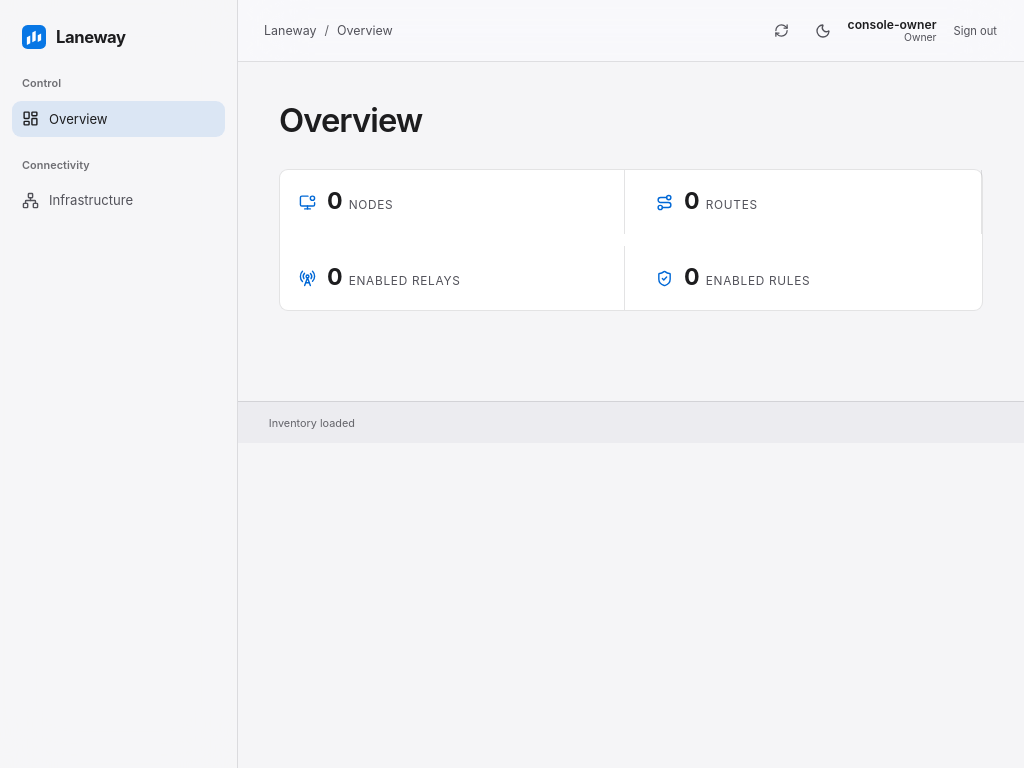
it: Laneway browser sessions › retains an authenticated session when logout cannot be confirmed, then clears it after success
Expected: the heading "Overview" is shown, [279,100,422,140]
Click the button "Sign out" at (975, 30), box [944,14,1006,46]
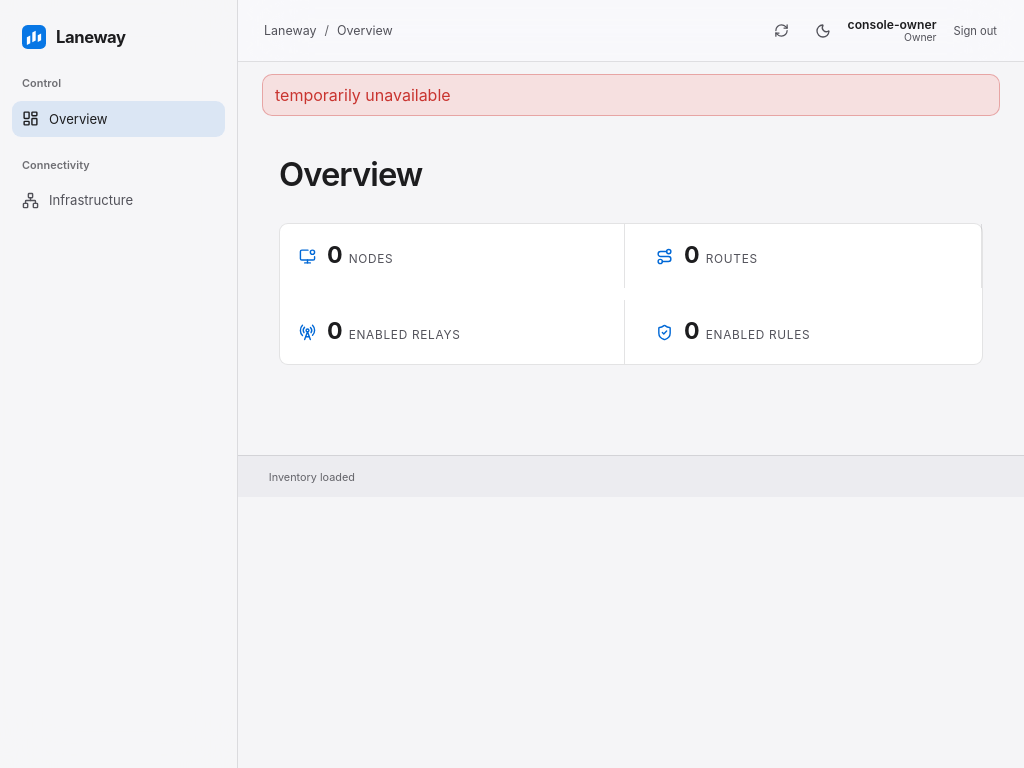
Expected: the heading "Overview" is shown, [279,154,422,194]
Now the message reads "temporarily unavailable", box [275,85,451,105]
Click the button "Sign out" at (975, 30), box [944,14,1006,46]
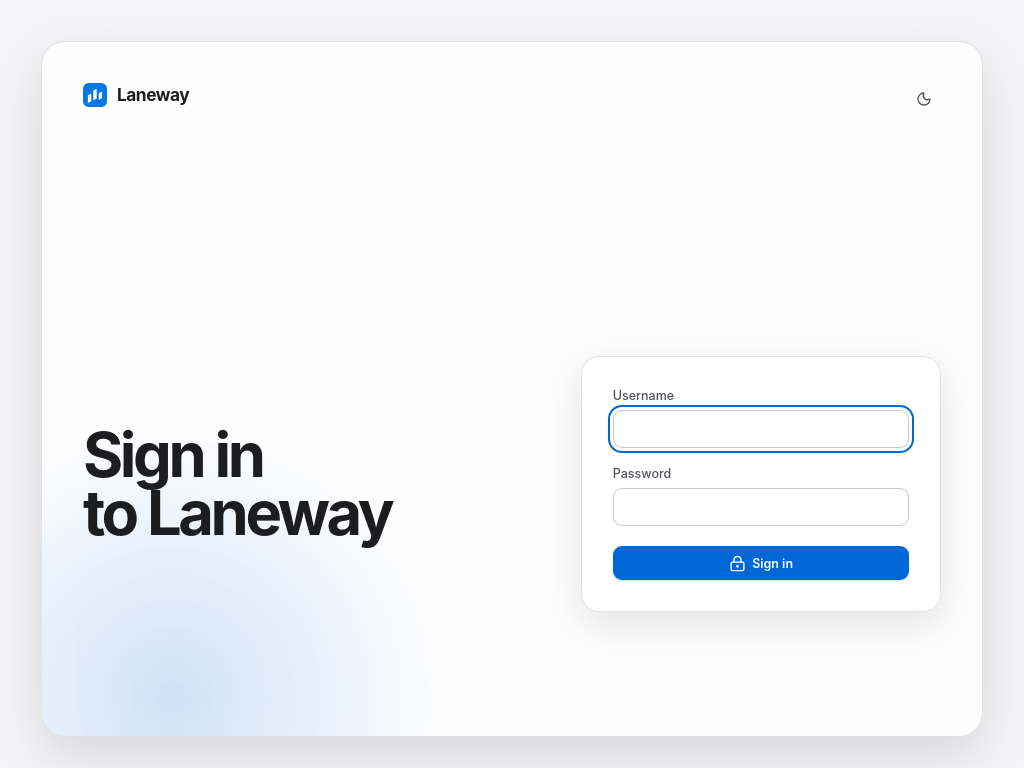
Now the heading "Sign in to Laneway" is shown, box [83,417,391,550]
